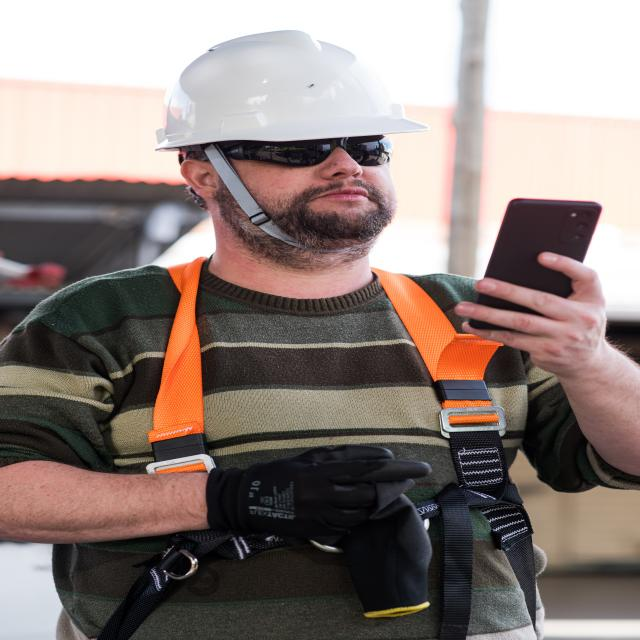capacete: (144, 25, 438, 156)
corda de vida: (65, 249, 551, 640)
luva: (198, 438, 438, 543)
